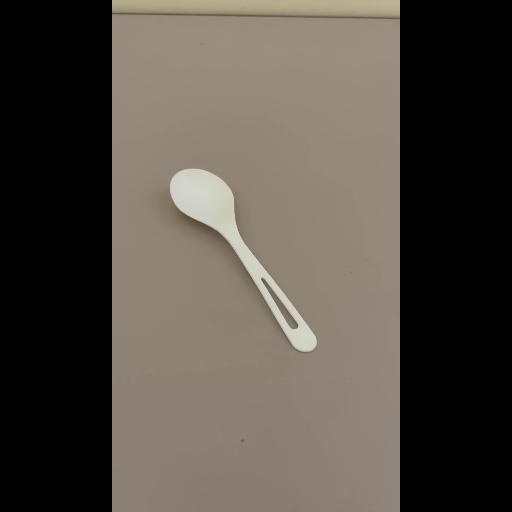utensil: (160, 163, 324, 363)
